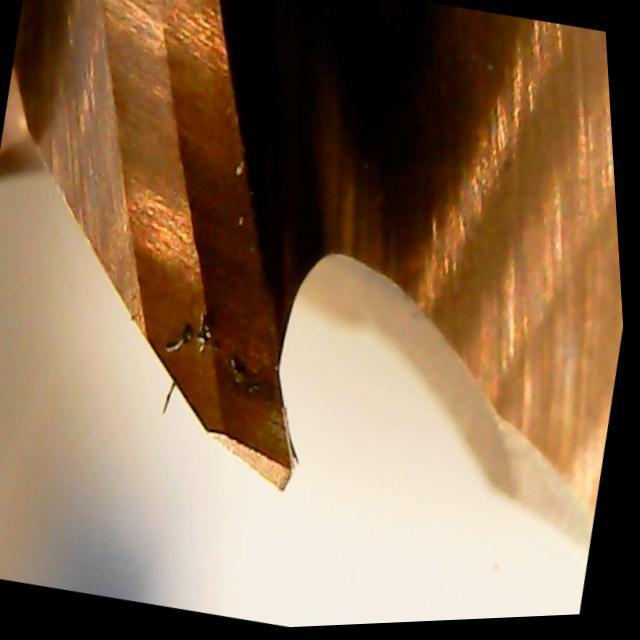Tool-wear-class-1: (99, 162, 376, 505)
